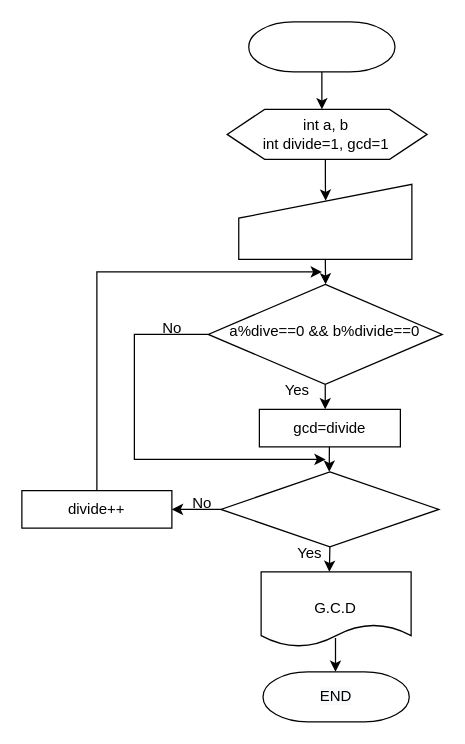
Some shapes in this 465 by 744 pixel diagram are drawn without their labels. The shapes that lost their labels are listed below. From the top down, each one's centre as x and y in pixels, then its label:
At (321,46): "G.C.D. START".
At (325,221): "&a, &b".
At (329,509): "divide>=a || divide>=b".
